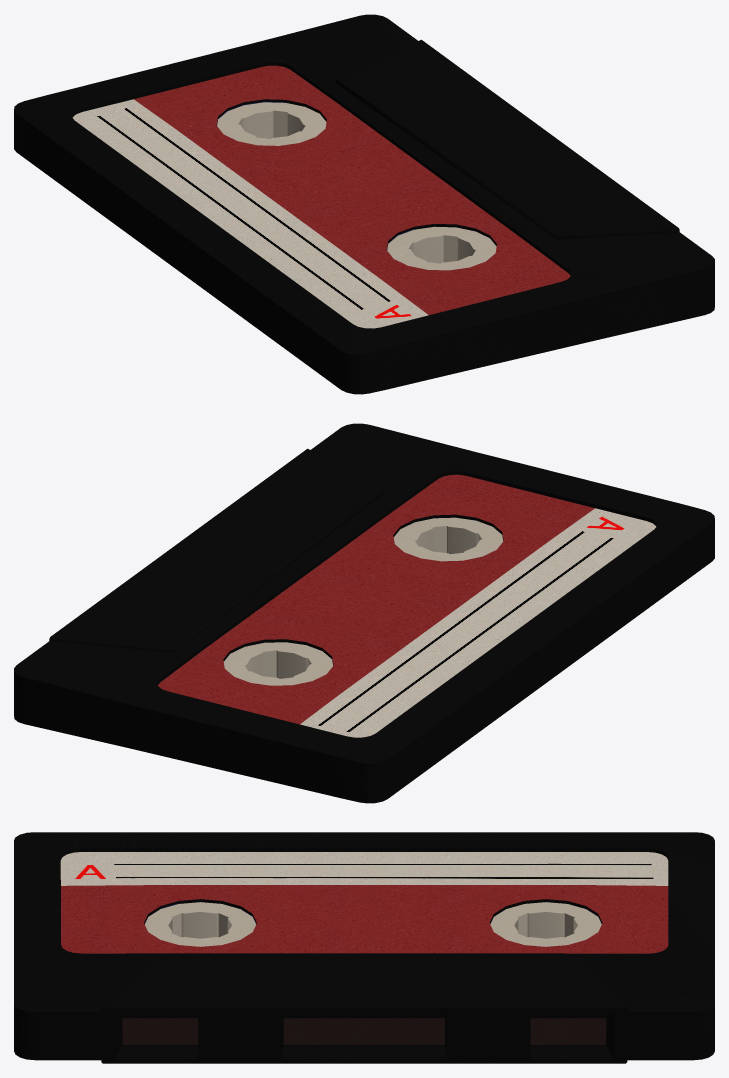
Rendered from Cassete.glb.
The picture shows the model from 3 angles, top to bottom: view 1: azimuth 30°, elevation 25°; view 2: azimuth 150°, elevation 25°; view 3: azimuth 270°, elevation 25°; orthographic projection.
Parts seen in each view (by area): view 1: Cassete_A; view 2: Cassete_A; view 3: Cassete_A.
Boxes of the visible parts, x1,y1,x2,y2 form: Cassete_A: (14,14,714,394); Cassete_A: (14,423,714,803); Cassete_A: (14,832,714,1063).
Bounding box in the file's own units: 0.9285 × 0.1303 × 1.49.
Materials: 1 (1 with a texture image).
